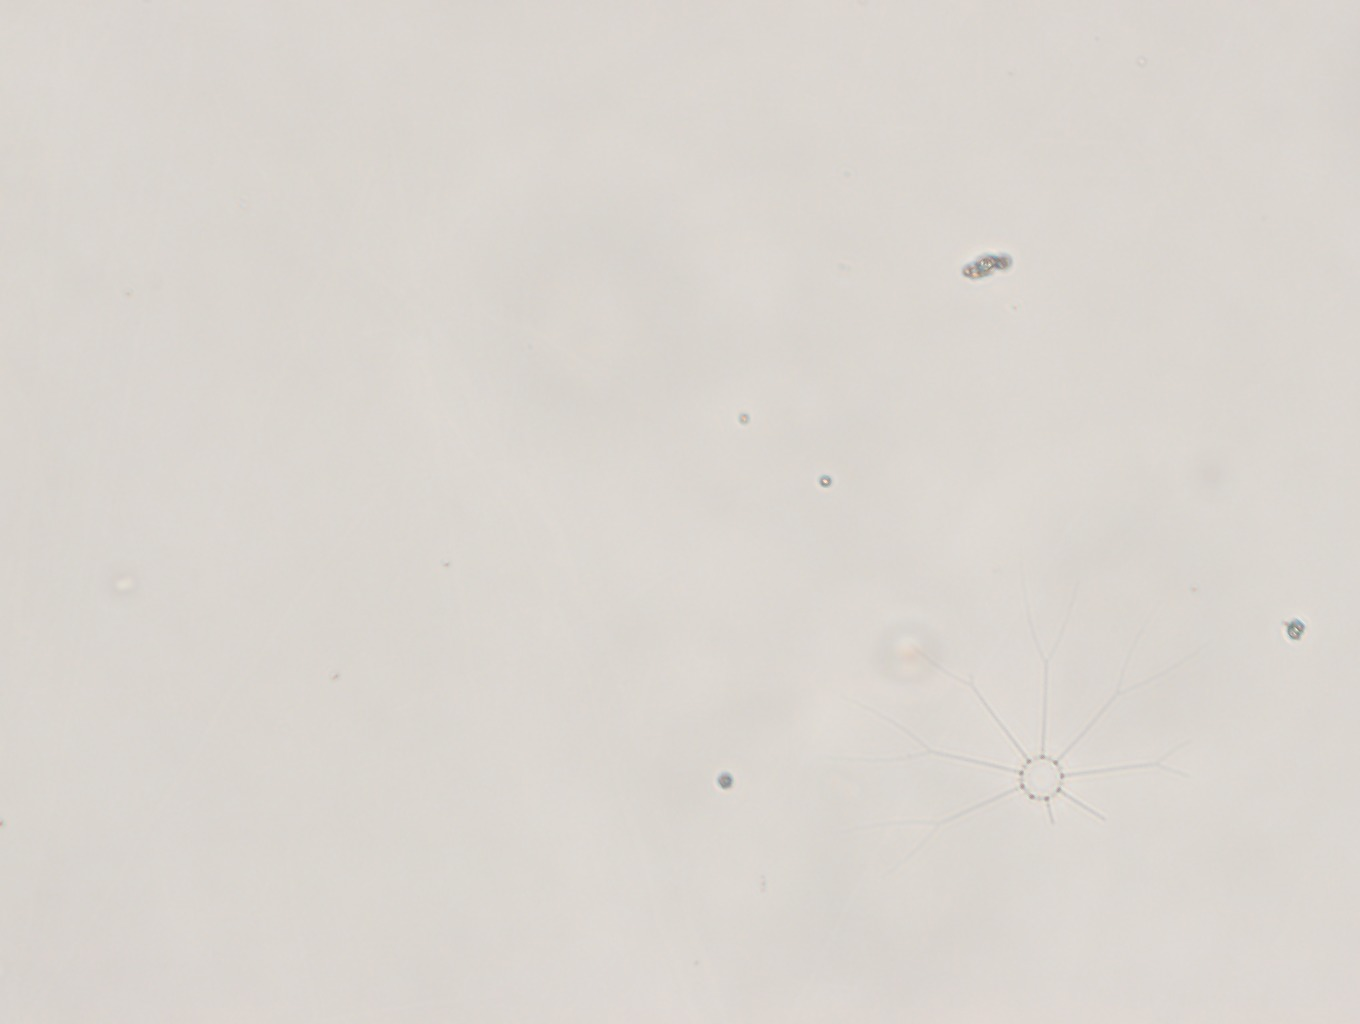bacteriastrum: (889, 630, 1178, 905)
